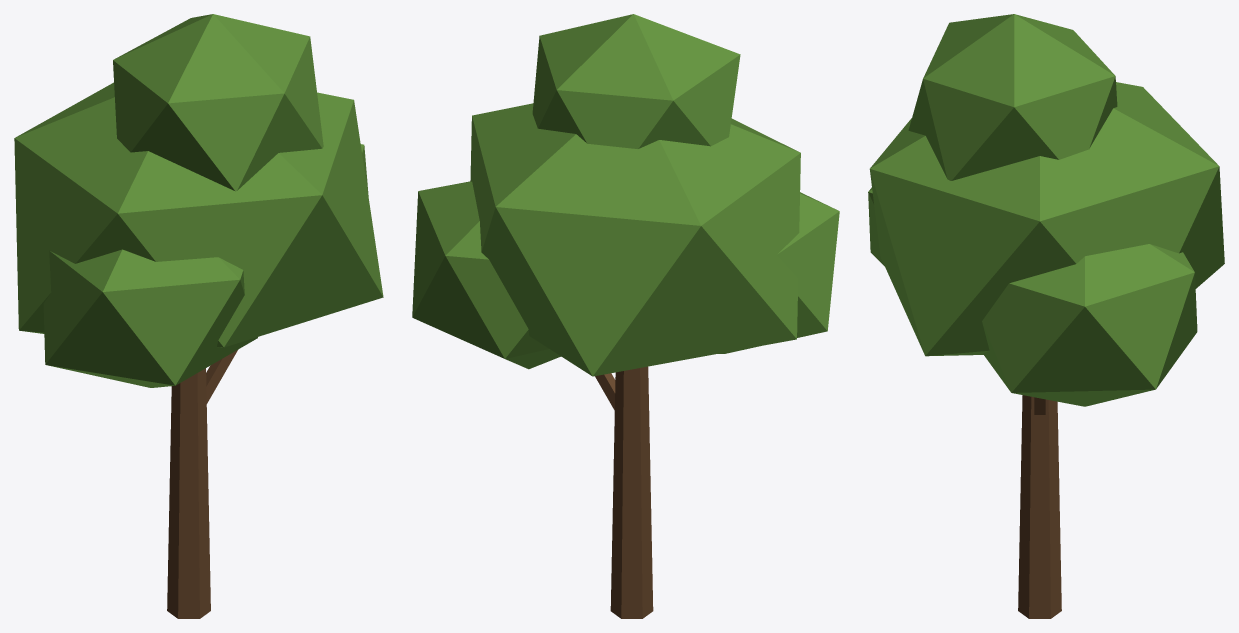
Rendered from tree_round.glb.
3 views of the same model, side by side, from view 1: azimuth 30°, elevation 25°; view 2: azimuth 150°, elevation 25°; view 3: azimuth 270°, elevation 25° (orthographic). The views are drawn at different scales.
Parts seen in each view (by area): view 1: TreeRound; view 2: TreeRound; view 3: TreeRound.
Part boxes in pixels (box(x1,y1,x2,y2)): TreeRound: box(14, 14, 383, 618); TreeRound: box(412, 14, 839, 618); TreeRound: box(868, 14, 1224, 618).
Size of what is drawn, in the model's own units: 3.32 by 5.16 by 2.77.
